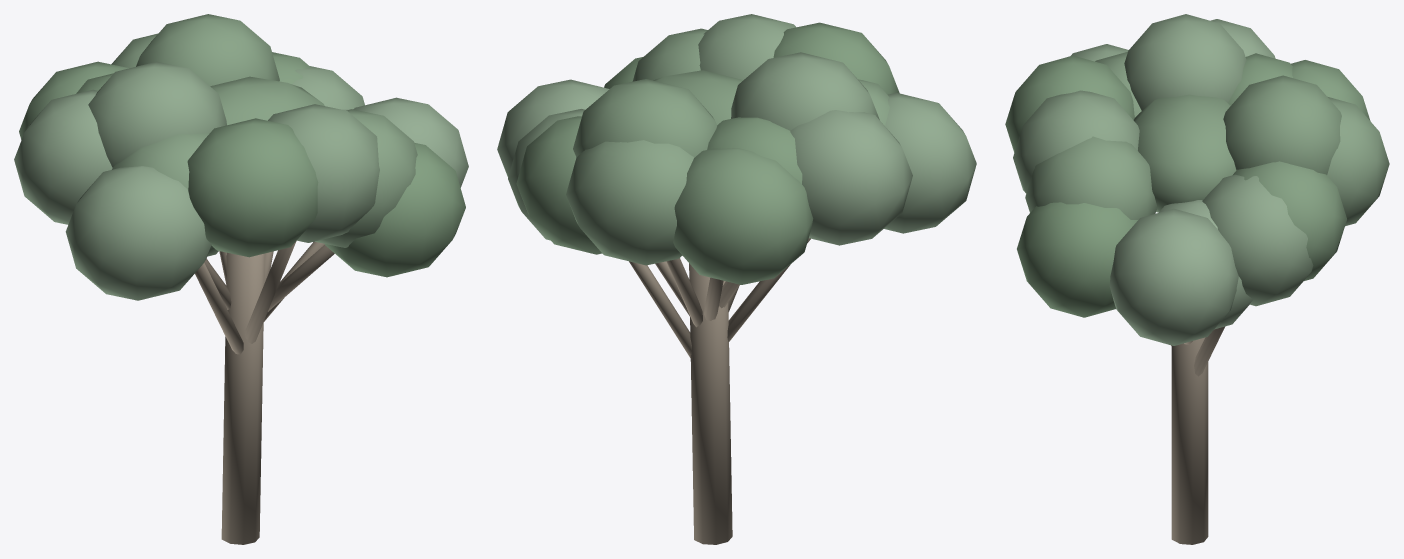
Rendered from oak-old.glb.
3 views of the same model, side by side, from view 1: azimuth 30°, elevation 25°; view 2: azimuth 150°, elevation 25°; view 3: azimuth 270°, elevation 25° (orthographic). The views are drawn at different scales.
Visible parts, largest first — view 1: oak-old; view 2: oak-old; view 3: oak-old.
Part boxes in pixels (bbox=[...]): oak-old: bbox=[14, 14, 468, 544]; oak-old: bbox=[497, 14, 976, 544]; oak-old: bbox=[1005, 14, 1389, 544].
Size of the model in its own units: 8.44 by 9.44 by 6.93.
